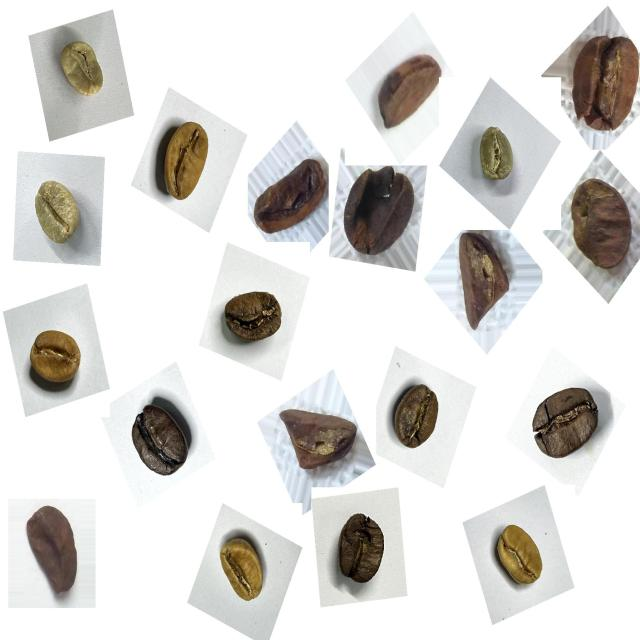bad: (334, 160, 421, 270), (562, 22, 640, 142), (246, 148, 333, 250), (562, 168, 640, 281), (448, 225, 522, 336), (17, 498, 92, 606), (276, 398, 362, 484), (372, 47, 447, 138)
dark: (520, 375, 608, 474), (120, 392, 200, 490)
green: (23, 170, 93, 258), (48, 30, 115, 114), (469, 118, 526, 193)
light: (150, 112, 225, 215), (22, 317, 94, 404), (208, 526, 276, 616), (484, 514, 554, 599)
medium: (326, 503, 397, 597), (215, 280, 292, 357), (384, 377, 452, 463)
